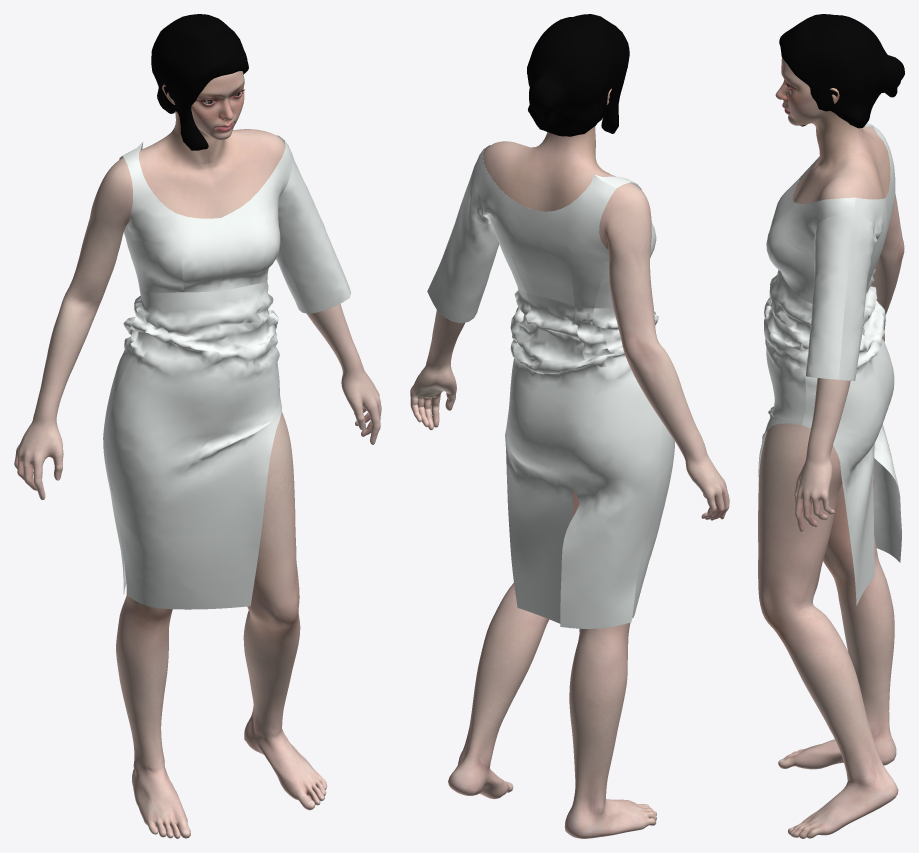
File: random.obj
The picture shows the model from 3 angles, left to right: view 1: azimuth 30°, elevation 25°; view 2: azimuth 150°, elevation 25°; view 3: azimuth 270°, elevation 25°; orthographic projection. The views are drawn at different scales.
Bounding box in the file's own units: 775 × 1773 × 305.
